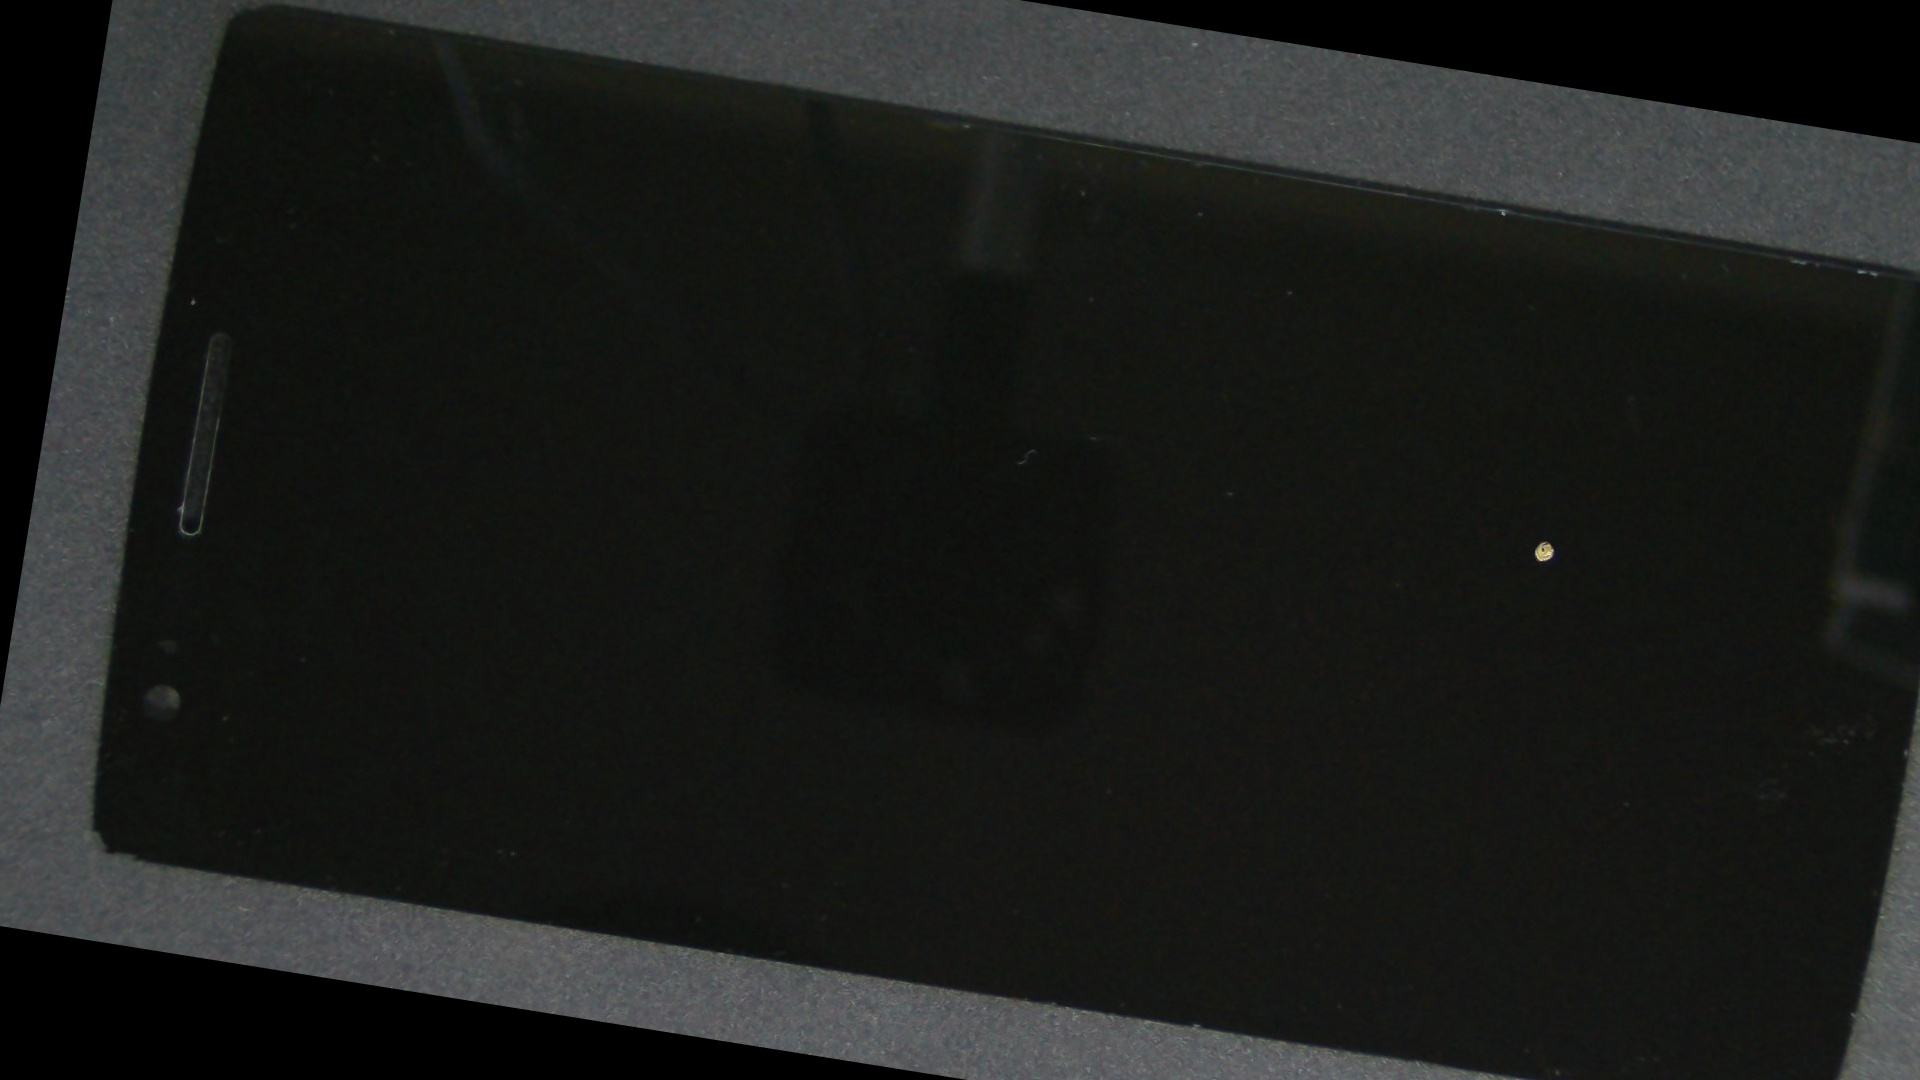oil: (771, 199, 1920, 839)
